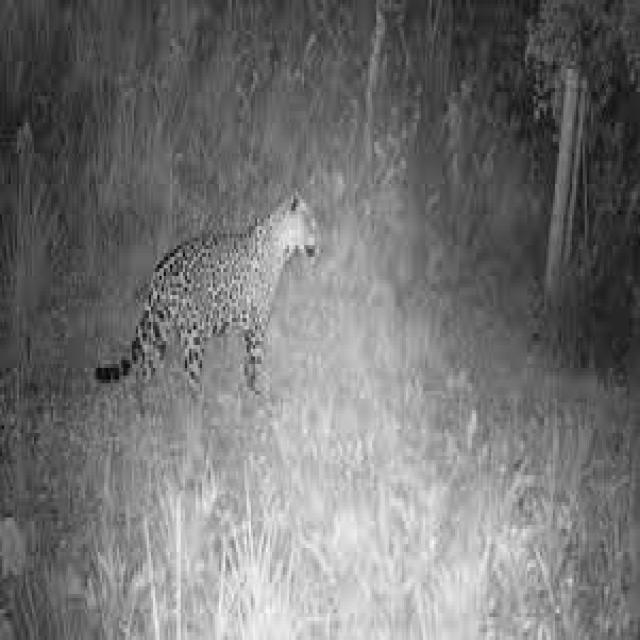Jaguar: (89, 192, 321, 402)
